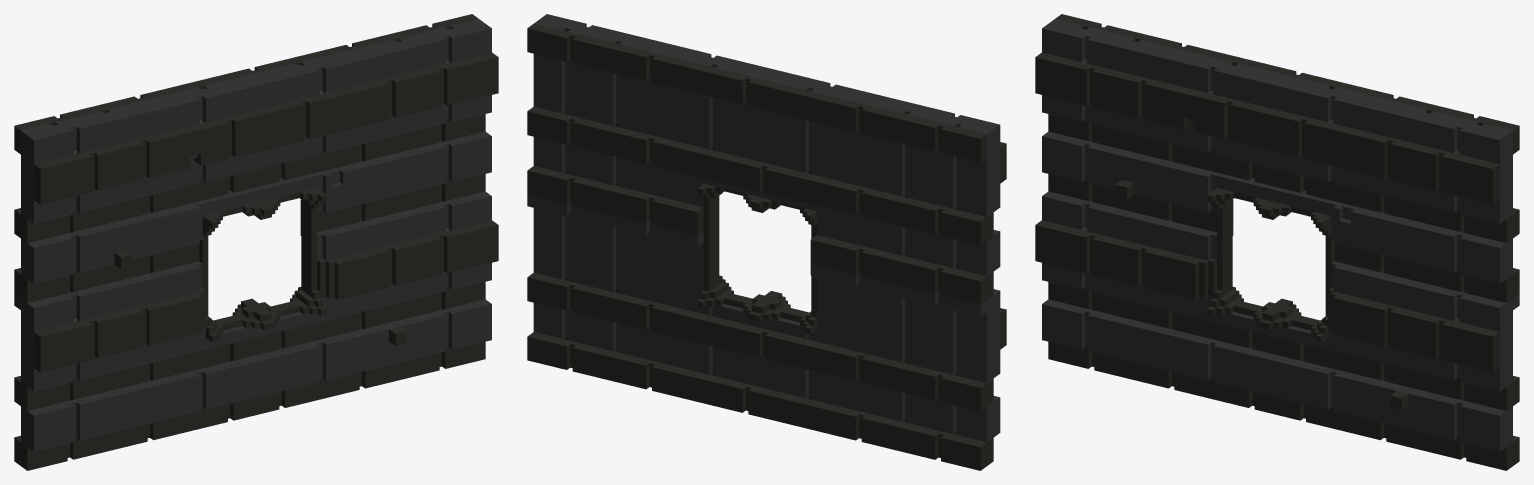
Rendered from WallWindowLessStone.obj.
The picture shows the model from 3 angles, left to right: view 1: azimuth 30°, elevation 25°; view 2: azimuth 150°, elevation 25°; view 3: azimuth 330°, elevation 25°; orthographic projection.
Size of the model in its own units: 8 by 5.6 by 0.8.
1 material, 1 textured.
